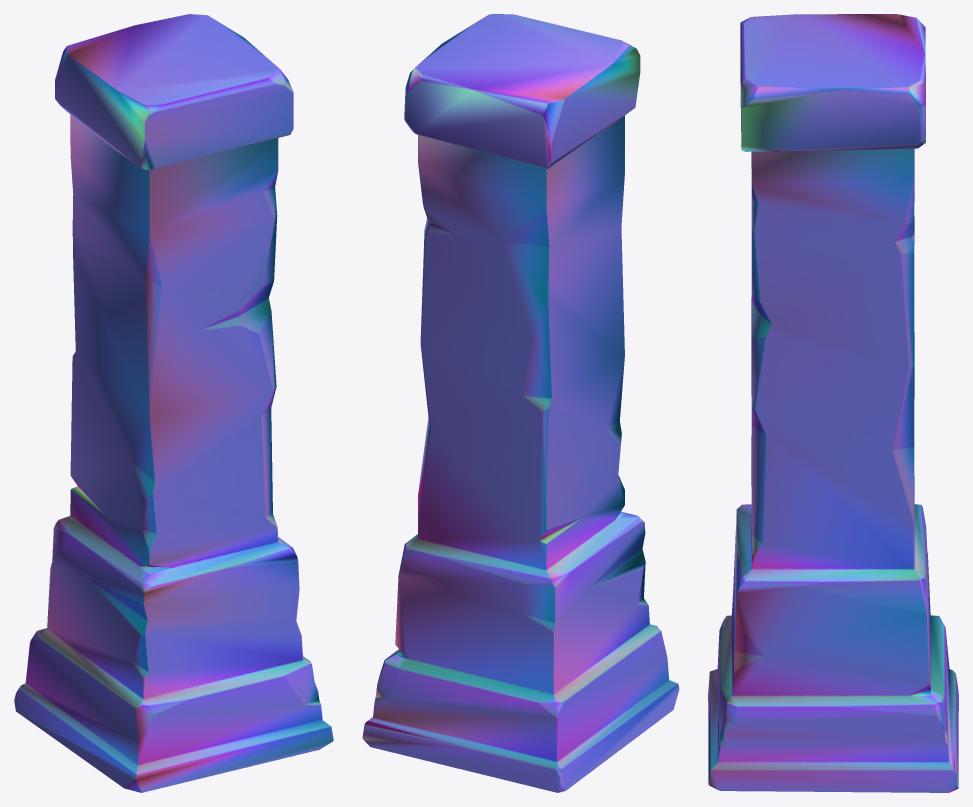
Rendered from pillar_layered_lowpoly_01.fbx.
The picture shows the model from 3 angles, left to right: view 1: azimuth 30°, elevation 25°; view 2: azimuth 150°, elevation 25°; view 3: azimuth 270°, elevation 25°; orthographic projection. The views are drawn at different scales.
Parts seen in each view (by area): view 1: RetopoGroup1; view 2: RetopoGroup1; view 3: RetopoGroup1.
Part boxes in pixels (x1,y1,x2,y2): RetopoGroup1: (14, 14, 333, 792); RetopoGroup1: (362, 14, 679, 792); RetopoGroup1: (708, 14, 958, 792).
Size of the model in its own units: 2.09 by 6.63 by 2.18.
